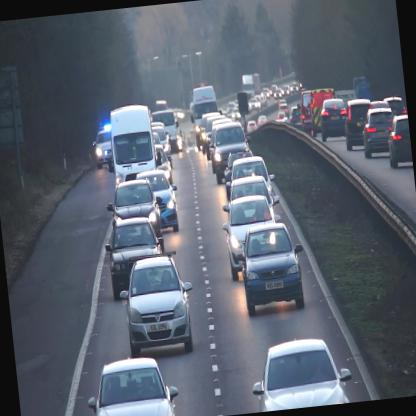car: (114, 253, 200, 362), (248, 336, 354, 412), (234, 220, 308, 314), (83, 352, 183, 415), (220, 194, 286, 281), (102, 214, 168, 300), (104, 175, 166, 253), (136, 167, 180, 237), (207, 120, 254, 182), (220, 174, 280, 219), (221, 153, 276, 198), (359, 106, 397, 158), (340, 96, 374, 150), (385, 112, 412, 170), (318, 96, 350, 140)
truck: (106, 102, 158, 186), (190, 84, 221, 146), (151, 108, 178, 152)
